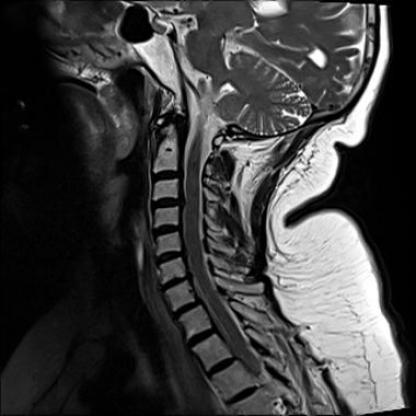Disc Protrusionrotation: (154, 249, 186, 265), (150, 196, 183, 211), (158, 276, 193, 289)
